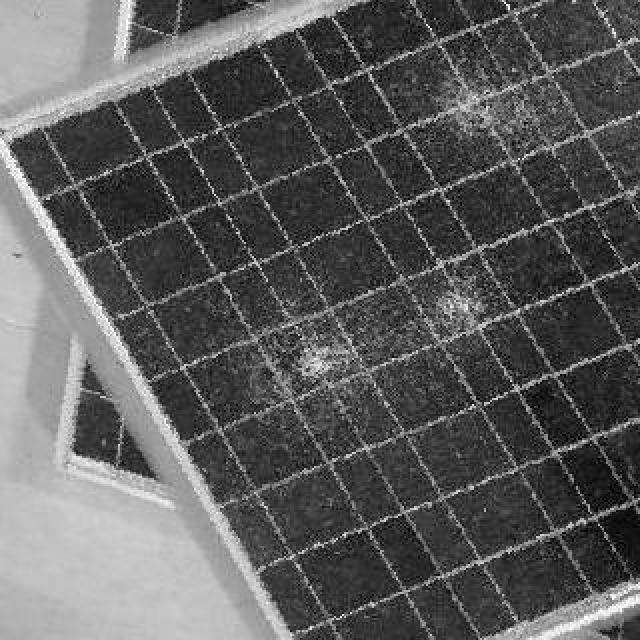Physical-damage: (204, 259, 550, 491), (375, 22, 564, 212)
